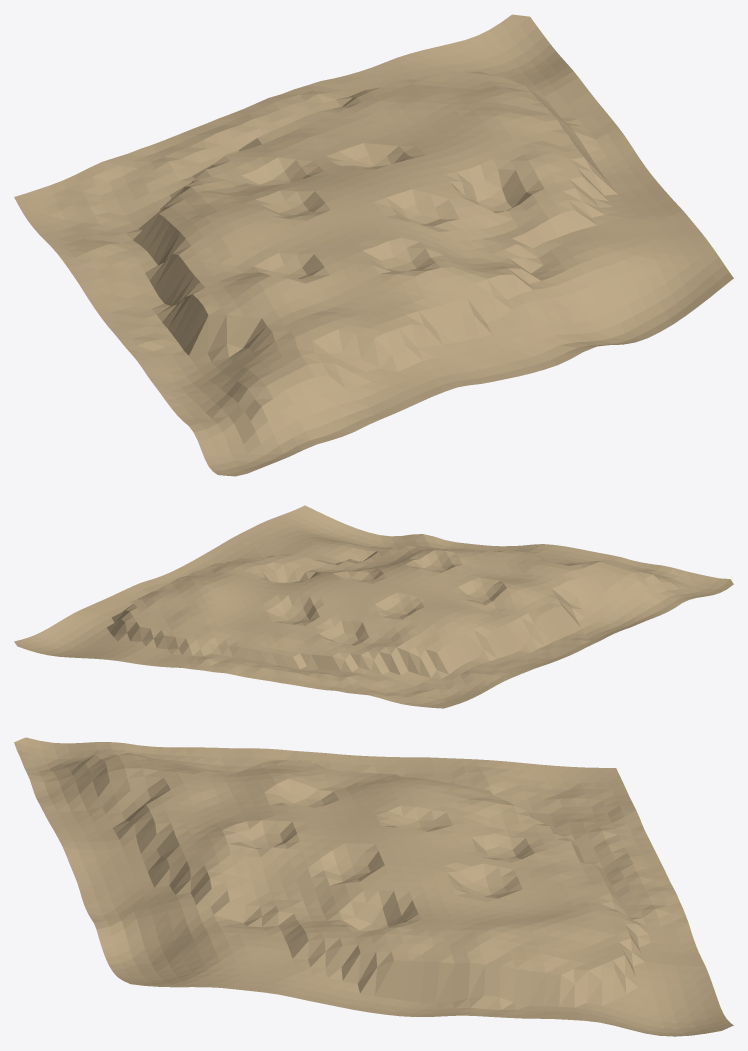
The model's file is waterLand.fbx.
3 views of the same model, one above another, from view 1: azimuth 30°, elevation 25°; view 2: azimuth 150°, elevation 25°; view 3: azimuth 270°, elevation 25° (orthographic). The views are drawn at different scales.
Visible parts, largest first — view 1: blue_4:Mesh; view 2: blue_4:Mesh; view 3: blue_4:Mesh.
Boxes of the visible parts, x1,y1,x2,y2 form: blue_4:Mesh: [14, 14, 733, 476]; blue_4:Mesh: [14, 505, 733, 708]; blue_4:Mesh: [14, 737, 733, 1036].
Size of the model in its own units: 61.78 by 5.93 by 60.03.
